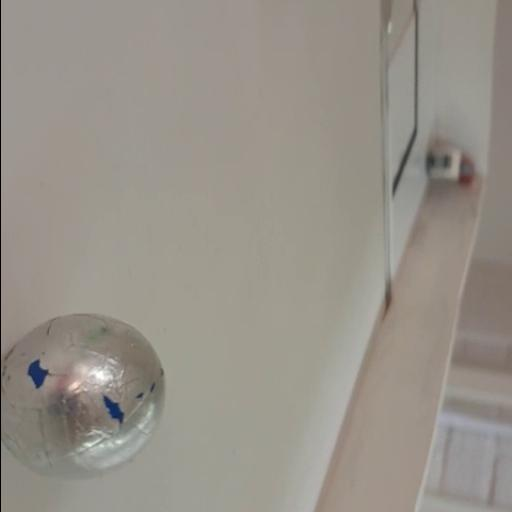alive: (2, 312, 166, 484)
